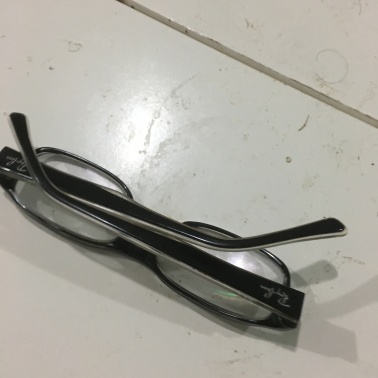glasses: (14, 130, 296, 332)
